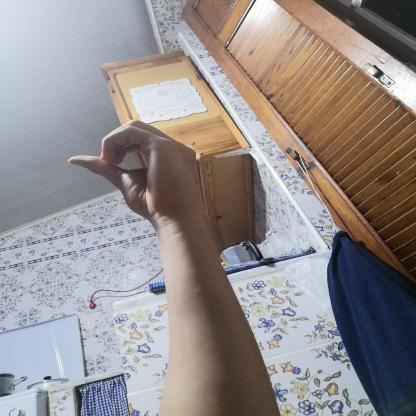WAW: (51, 111, 218, 234)
